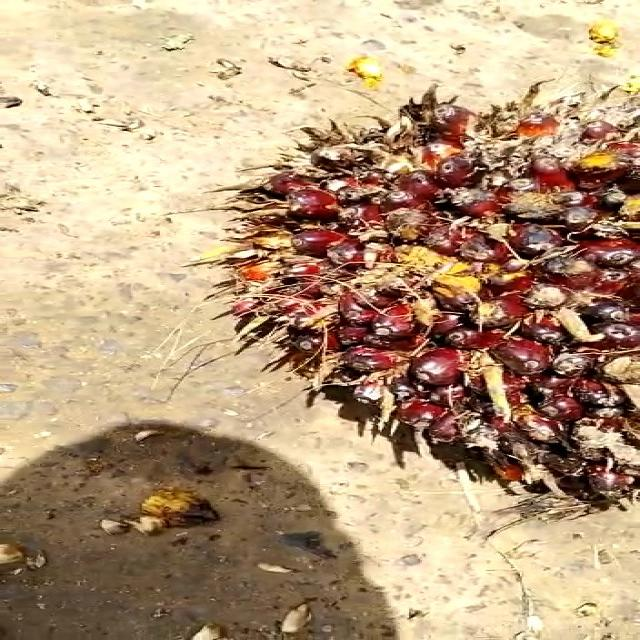palm oil: (197, 80, 640, 512)
